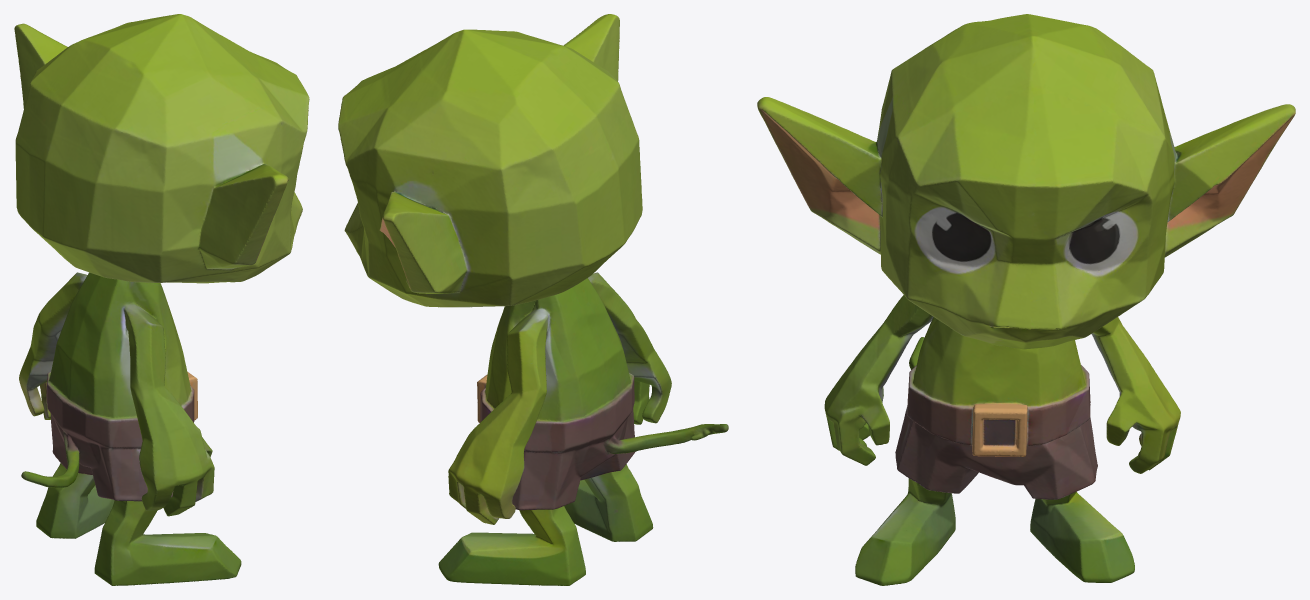
File: goblin.glb
3 views of the same model, side by side, from view 1: azimuth 30°, elevation 25°; view 2: azimuth 150°, elevation 25°; view 3: azimuth 270°, elevation 25° (orthographic). The views are drawn at different scales.
Parts seen in each view (by area): view 1: tripo_node_653fec50-fffe-4b40-8ff4-ce8308cf1b6e; view 2: tripo_node_653fec50-fffe-4b40-8ff4-ce8308cf1b6e; view 3: tripo_node_653fec50-fffe-4b40-8ff4-ce8308cf1b6e.
Part boxes in pixels (x1=…): tripo_node_653fec50-fffe-4b40-8ff4-ce8308cf1b6e: x1=14, y1=14, x2=309, y2=585; tripo_node_653fec50-fffe-4b40-8ff4-ce8308cf1b6e: x1=338, y1=14, x2=728, y2=585; tripo_node_653fec50-fffe-4b40-8ff4-ce8308cf1b6e: x1=757, y1=14, x2=1295, y2=585.
Size of the model in its own units: 0.6635 by 1 by 0.8802.
Materials: 1 (1 with a texture image).
